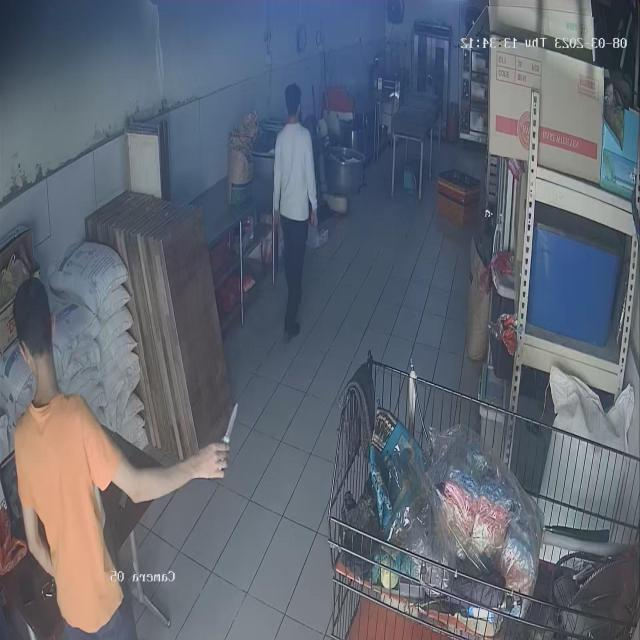Knife: (216, 394, 251, 464)
